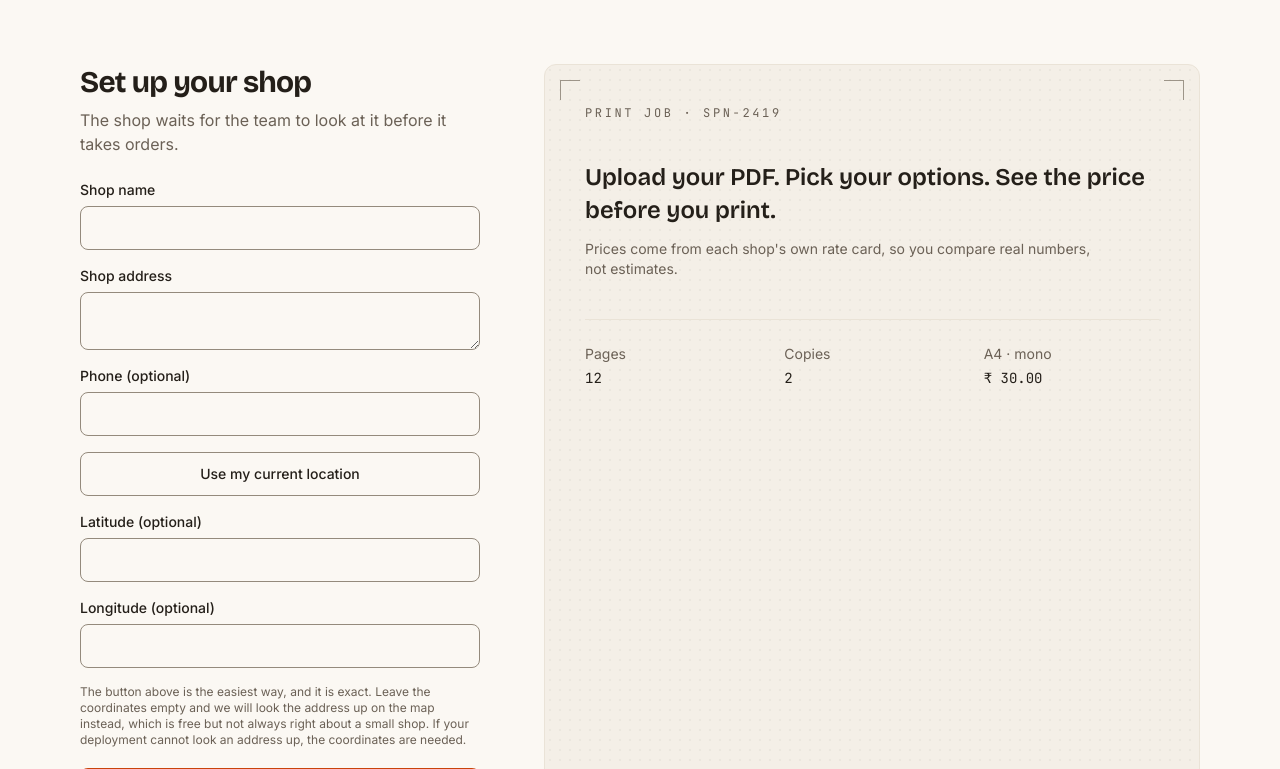
the onboarding page › takes the shop's place from the browser
Click the button "Use my current location".
click(280, 474)  # box [80, 452, 480, 496]
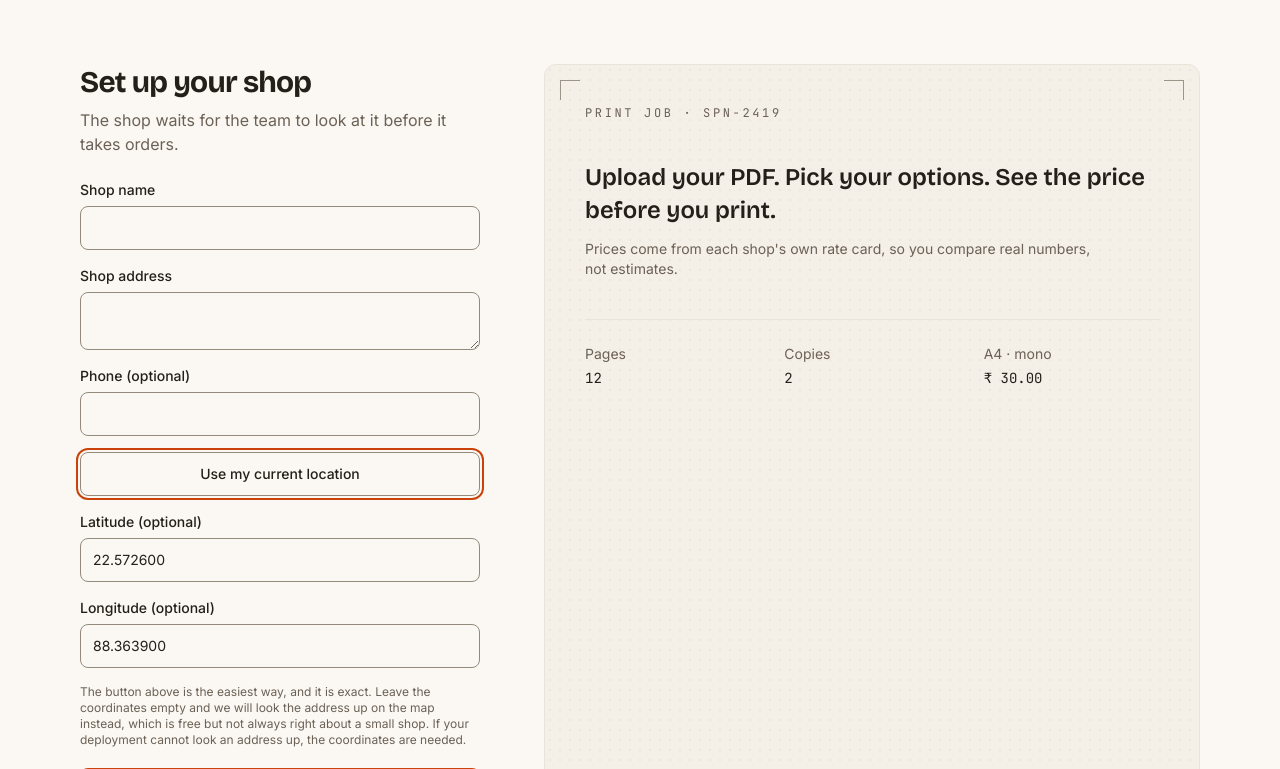
Expected: the field labelled "Latitude (optional)" holds "22.572600", [80, 538, 480, 582]
Expected: the field labelled "Longitude (optional)" holds "88.363900", [80, 624, 480, 668]
